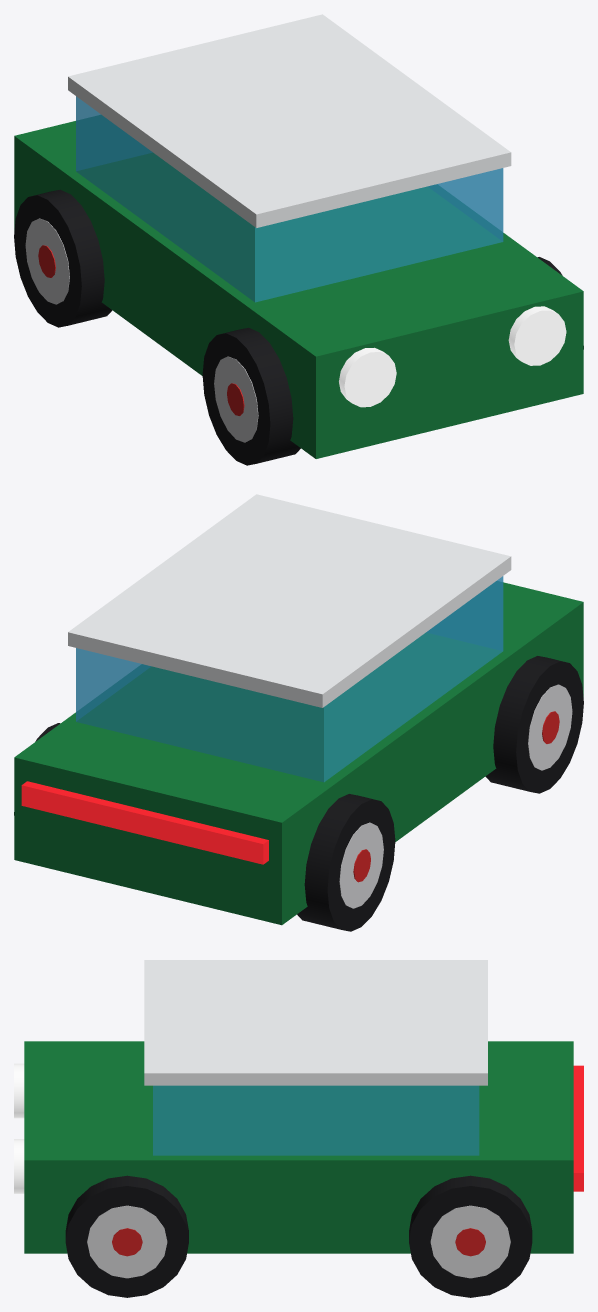
Rendered from mini_cooper_se.glb.
The picture shows the model from 3 angles, top to bottom: view 1: azimuth 30°, elevation 25°; view 2: azimuth 150°, elevation 25°; view 3: azimuth 270°, elevation 25°; orthographic projection. The views are drawn at different scales.
Size of the model in its own units: 0.5827 by 0.4096 by 1.
